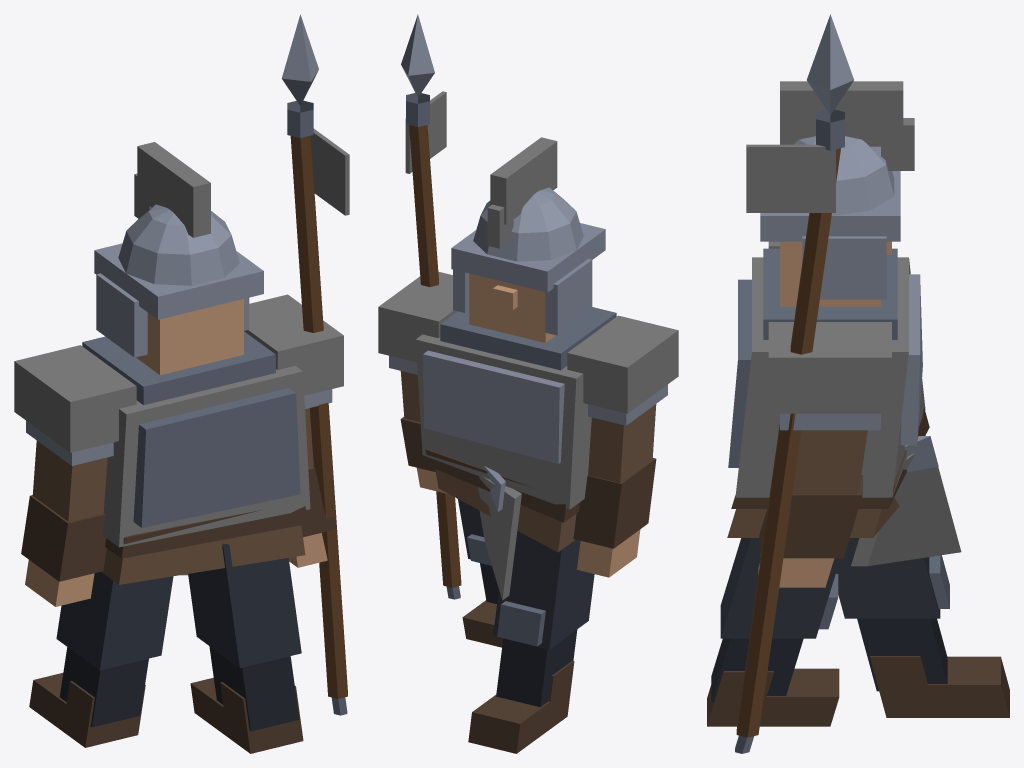
The model's file is infantry-walk-2.obj.
The picture shows the model from 3 angles, left to right: view 1: azimuth 30°, elevation 25°; view 2: azimuth 150°, elevation 25°; view 3: azimuth 270°, elevation 25°; orthographic projection. The views are drawn at different scales.
Parts seen in each view (by area): view 1: infantry-walk-2; view 2: infantry-walk-2; view 3: infantry-walk-2.
Boxes of the visible parts, x1=… form: infantry-walk-2: x1=14, y1=14, x2=349, y2=753; infantry-walk-2: x1=378, y1=14, x2=678, y2=753; infantry-walk-2: x1=707, y1=14, x2=1009, y2=753.
Bounding box in the file's own units: 1.25 × 3.06 × 1.08.
